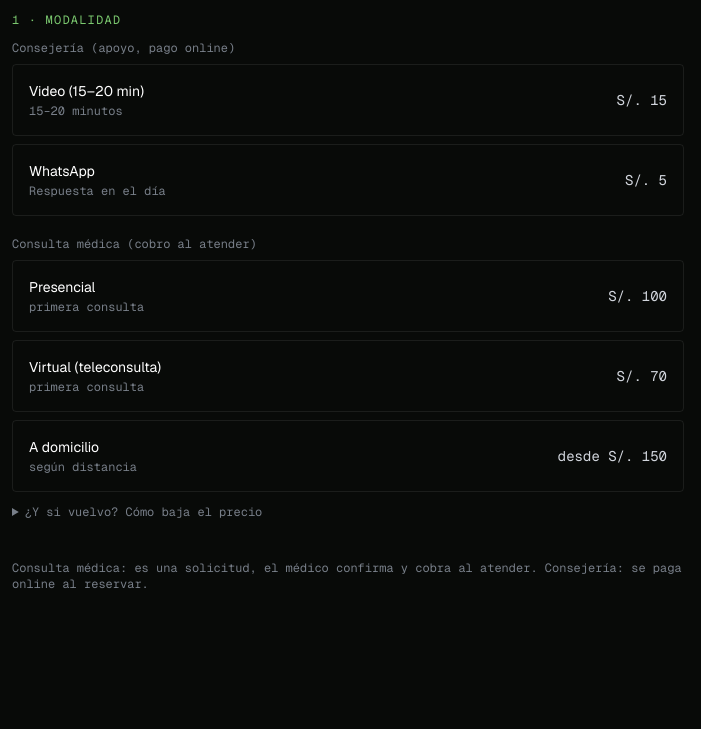
Test: AgendarForm › presencial muestra el paso de horario
The width and height of the screenshot is (701, 729).
What coordinates should you click on to do the following:
click the text "Presencial"
I would click on:
 (62, 287)
Its box is left=29, top=278, right=95, bottom=296.
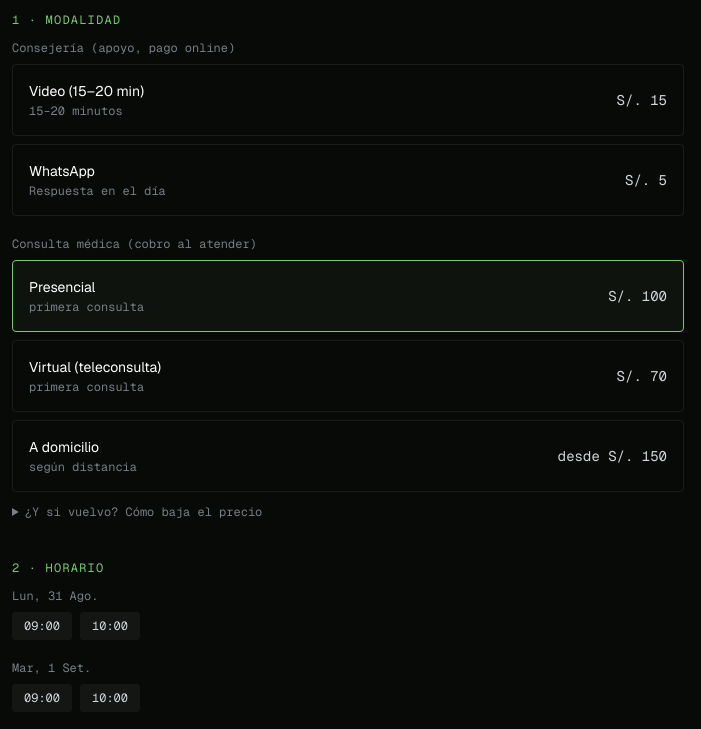
Result: the text "2 · Horario" is shown at left=12, top=560, right=104, bottom=576
